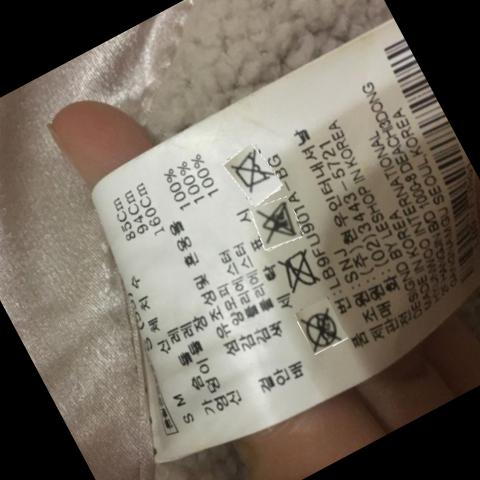DN_dry_clean: (301, 303, 348, 350)
DN_iron: (279, 251, 325, 293)
DN_wash: (229, 151, 272, 192)
non_chlorine_bleach: (256, 200, 303, 245)
